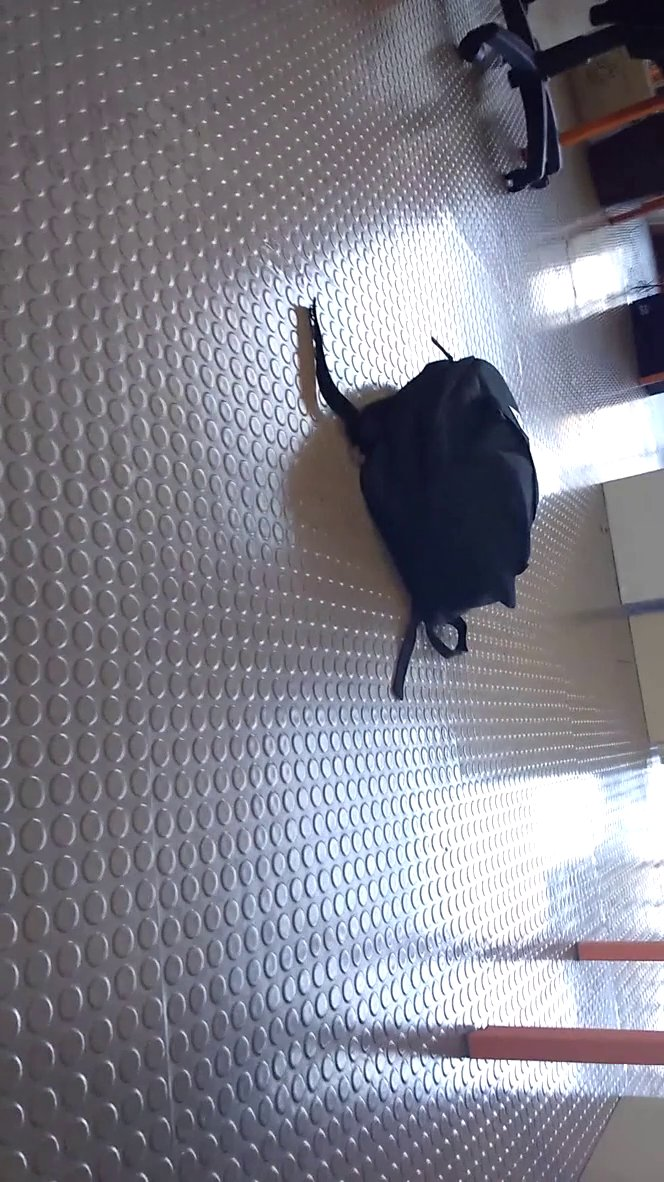bag: (301, 296, 550, 708)
